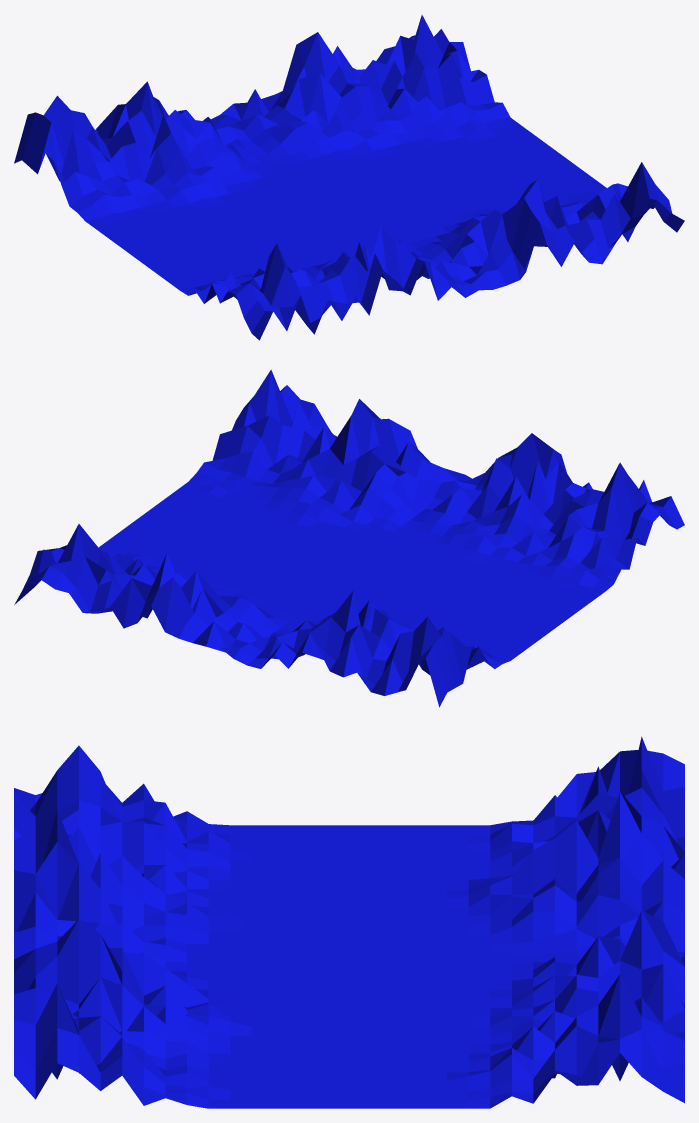
File: mountain.fbx
3 renders of one model, top to bottom at view 1: azimuth 30°, elevation 25°; view 2: azimuth 150°, elevation 25°; view 3: azimuth 270°, elevation 25°, orthographic. The views are drawn at different scales.
Parts seen in each view (by area): view 1: Mountain_LOD0; view 2: Mountain_LOD0; view 3: Mountain_LOD0.
Part boxes in pixels (left/top/right/bottom): Mountain_LOD0: left=14, top=15, right=684, bottom=340; Mountain_LOD0: left=14, top=369, right=684, bottom=707; Mountain_LOD0: left=14, top=736, right=684, bottom=1108.
Size of what is drawn, in the model's own units: 1600 by 283 by 1600.
